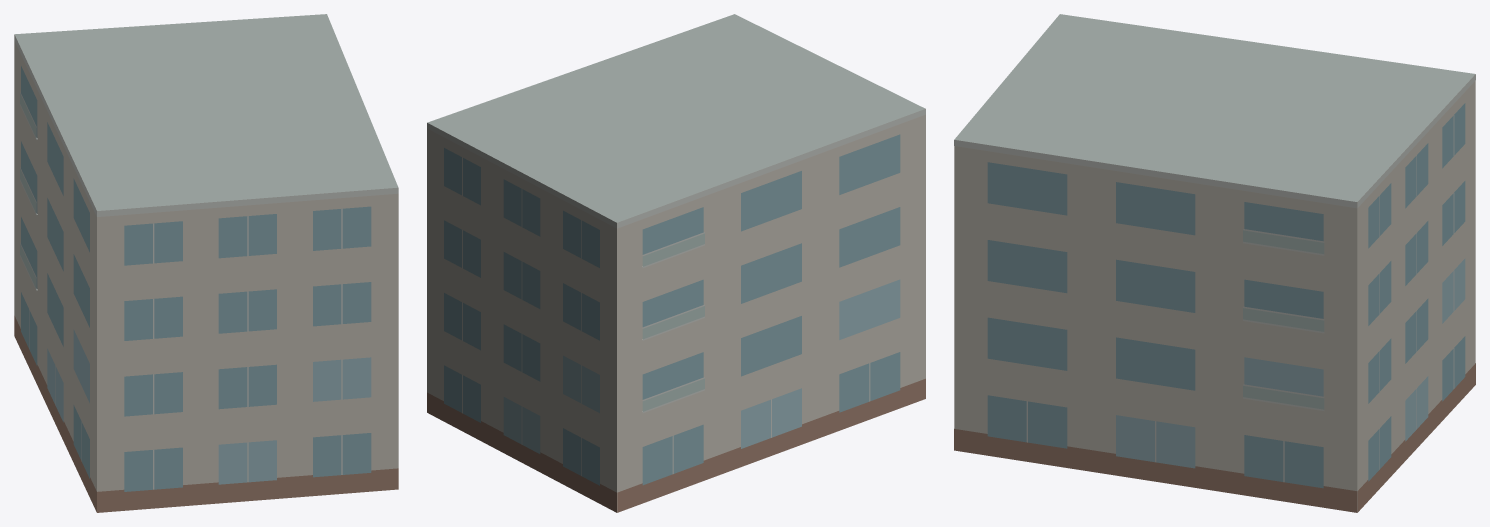
The model's file is survey-upis-32882654.glb.
3 renders of one model, left to right at view 1: azimuth 30°, elevation 25°; view 2: azimuth 150°, elevation 25°; view 3: azimuth 270°, elevation 25°, orthographic. The views are drawn at different scales.
Parts seen in each view (by area): view 1: survey-upis-32882654.tmp; view 2: survey-upis-32882654.tmp; view 3: survey-upis-32882654.tmp.
Boxes of the visible parts, x1,y1,x2,y2 form: survey-upis-32882654.tmp: (14,14,398,512); survey-upis-32882654.tmp: (427,14,925,512); survey-upis-32882654.tmp: (954,14,1475,512).
Bounding box in the file's own units: 15.85 × 12.2 × 18.57.
